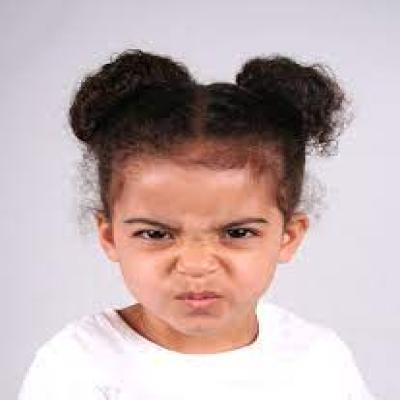angry: (101, 134, 295, 334)
